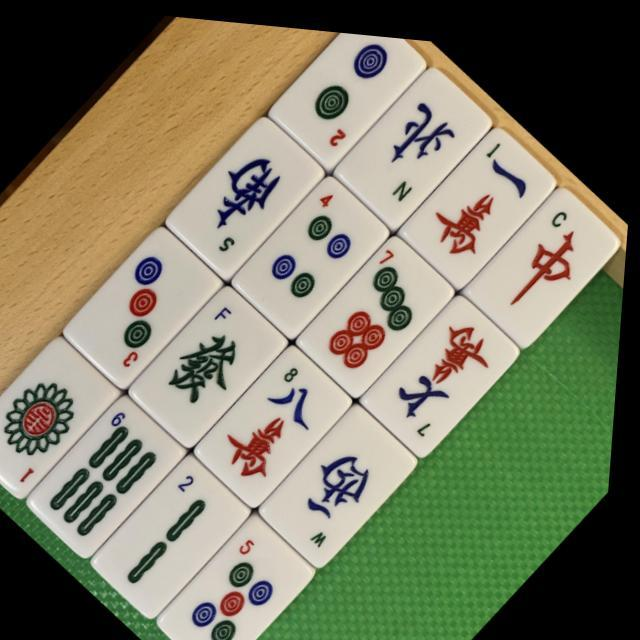hdg: (132, 277, 290, 449)
hdr: (472, 174, 622, 336)
hwn: (338, 56, 490, 222)
hws: (158, 103, 329, 287)
hww: (260, 394, 426, 572)
sb2: (90, 444, 260, 626)
sb6: (34, 391, 188, 558)
sb8: (195, 327, 362, 507)
sc1: (405, 113, 558, 278)
sc7: (370, 288, 520, 452)
sd1: (0, 333, 124, 499)
sd2: (262, 21, 423, 172)
sd3: (71, 223, 224, 387)
sd4: (236, 162, 394, 332)
sd5: (160, 505, 327, 640)
sd7: (295, 215, 463, 395)
